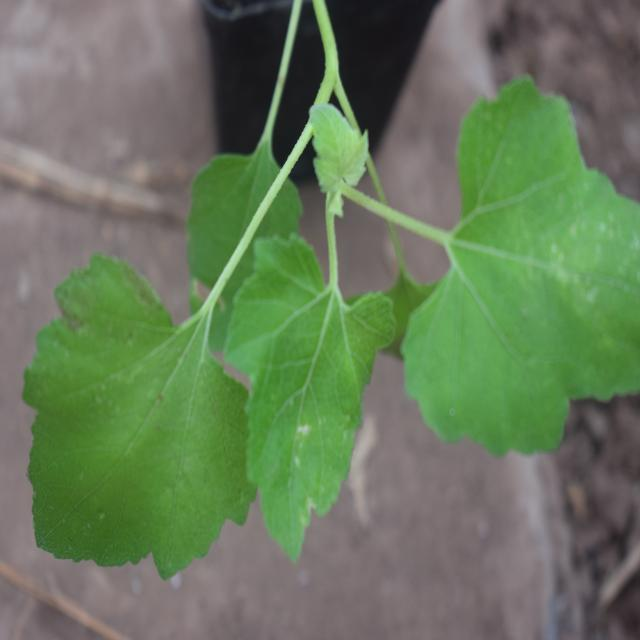cocklebur: (21, 82, 637, 544)
